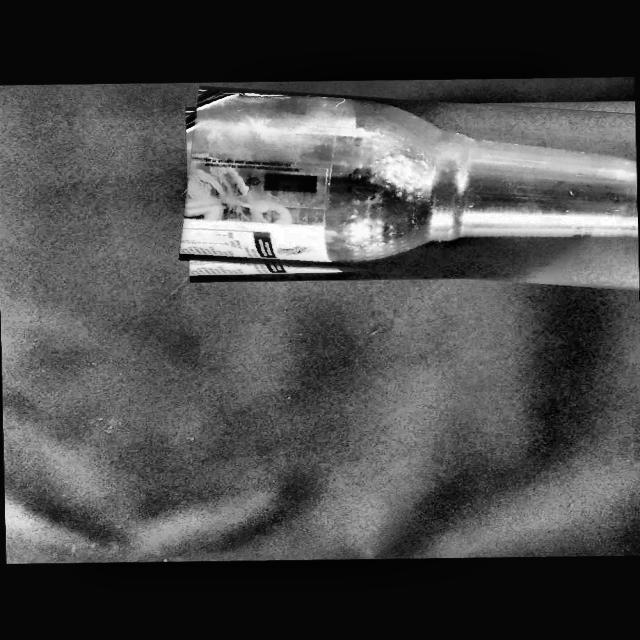Plastic-Bottle: (179, 89, 639, 292)
